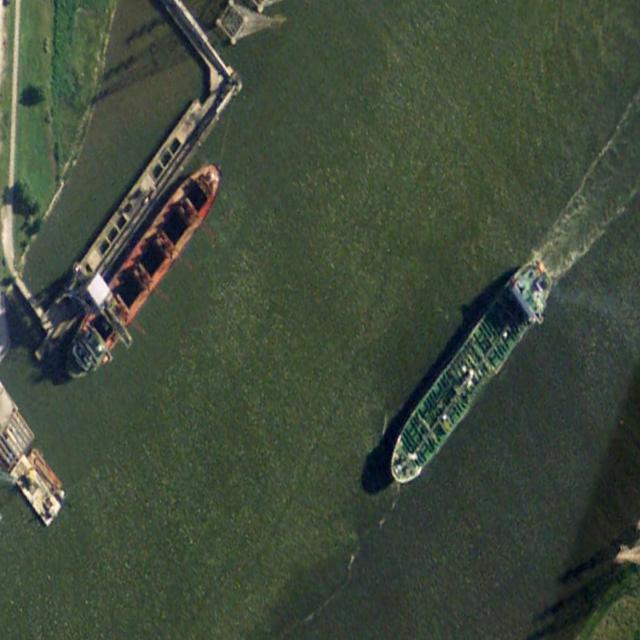Cargo: (379, 247, 559, 497), (54, 147, 230, 394)
